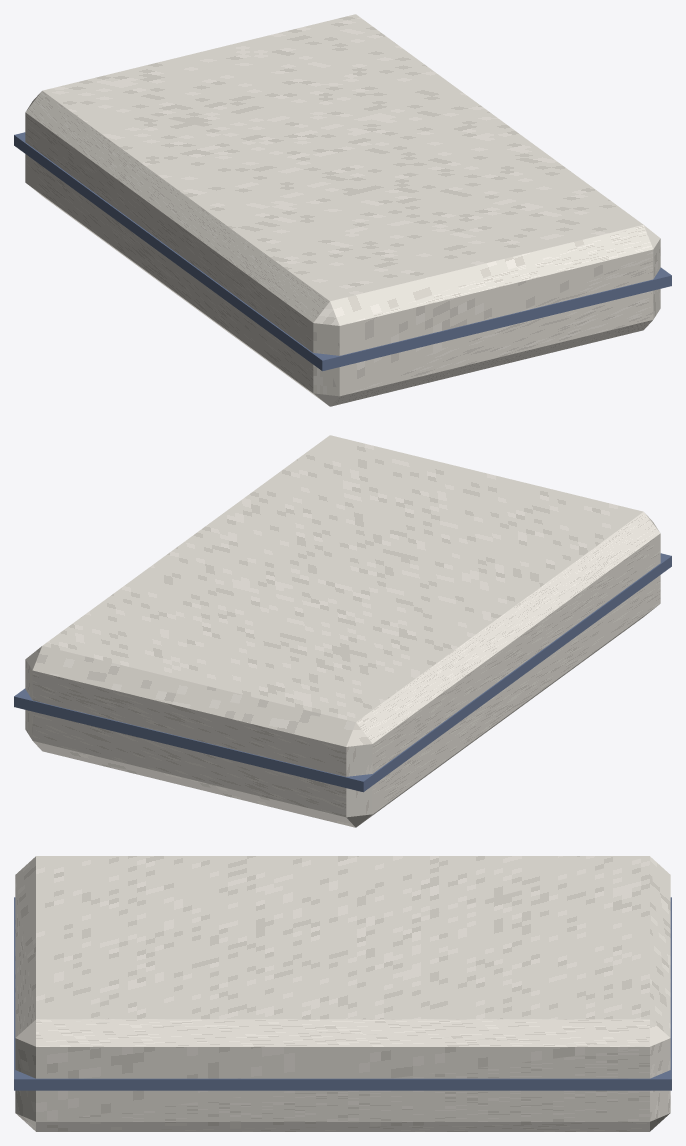
File: tr_mattress.glb
3 renders of one model, top to bottom at view 1: azimuth 30°, elevation 25°; view 2: azimuth 150°, elevation 25°; view 3: azimuth 270°, elevation 25°, orthographic. The views are drawn at different scales.
Parts seen in each view (by area): view 1: block_pad, block_piping; view 2: block_pad, block_piping; view 3: block_pad, block_piping.
Part boxes in pixels (x1,y1,x2,y2): block_pad: (25,14,660,406); block_piping: (14,132,671,371); block_pad: (25,435,660,827); block_piping: (14,553,671,792); block_pad: (15,856,670,1131); block_piping: (14,897,671,1090).
Size of the model in its own units: 0.624 by 0.18 by 0.954.
Materials: 1 (1 with a texture image).
